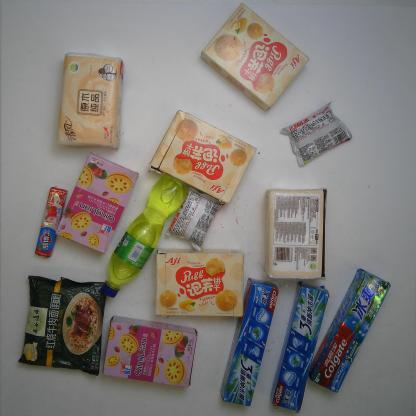Candy: (35, 186, 67, 258)
Dessert: (200, 3, 310, 112), (149, 110, 257, 205), (56, 153, 138, 255), (103, 317, 198, 388), (156, 249, 244, 318), (280, 101, 354, 167), (166, 187, 226, 251)
Drink: (103, 175, 188, 298)
Instant Noodles: (17, 274, 107, 376)
Personal Hygiene: (306, 269, 390, 393), (270, 283, 329, 413), (220, 278, 279, 407)
Tissue: (57, 52, 125, 150), (263, 188, 326, 280)
